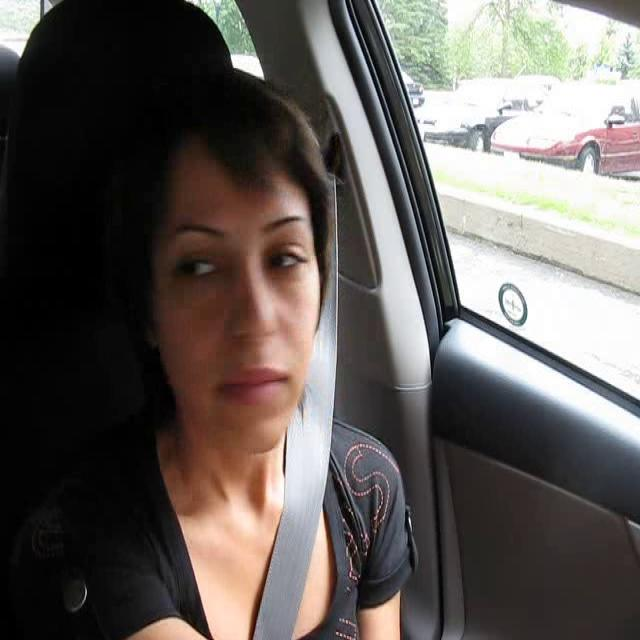close: (212, 360, 292, 410)
